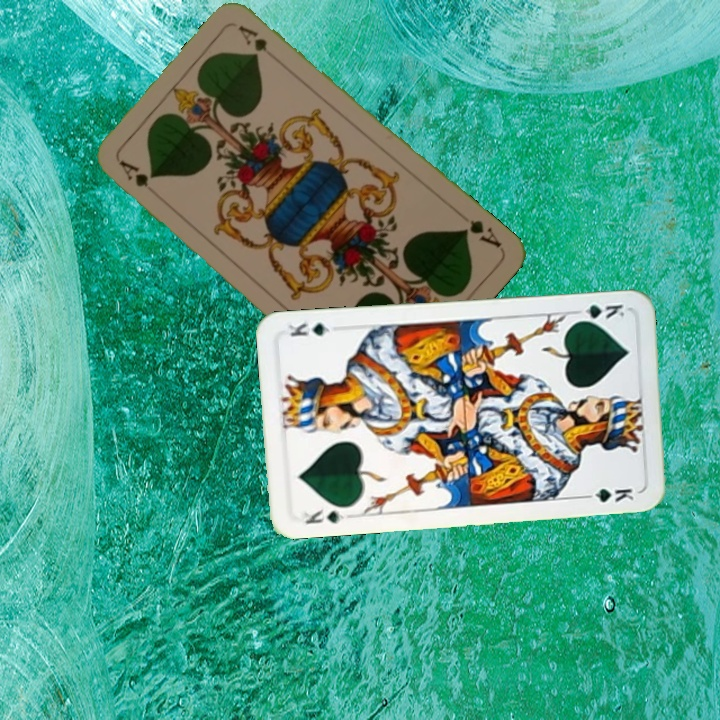GA: (115, 156, 163, 201), (458, 215, 504, 251)
GK: (570, 300, 627, 324), (299, 504, 348, 527)
